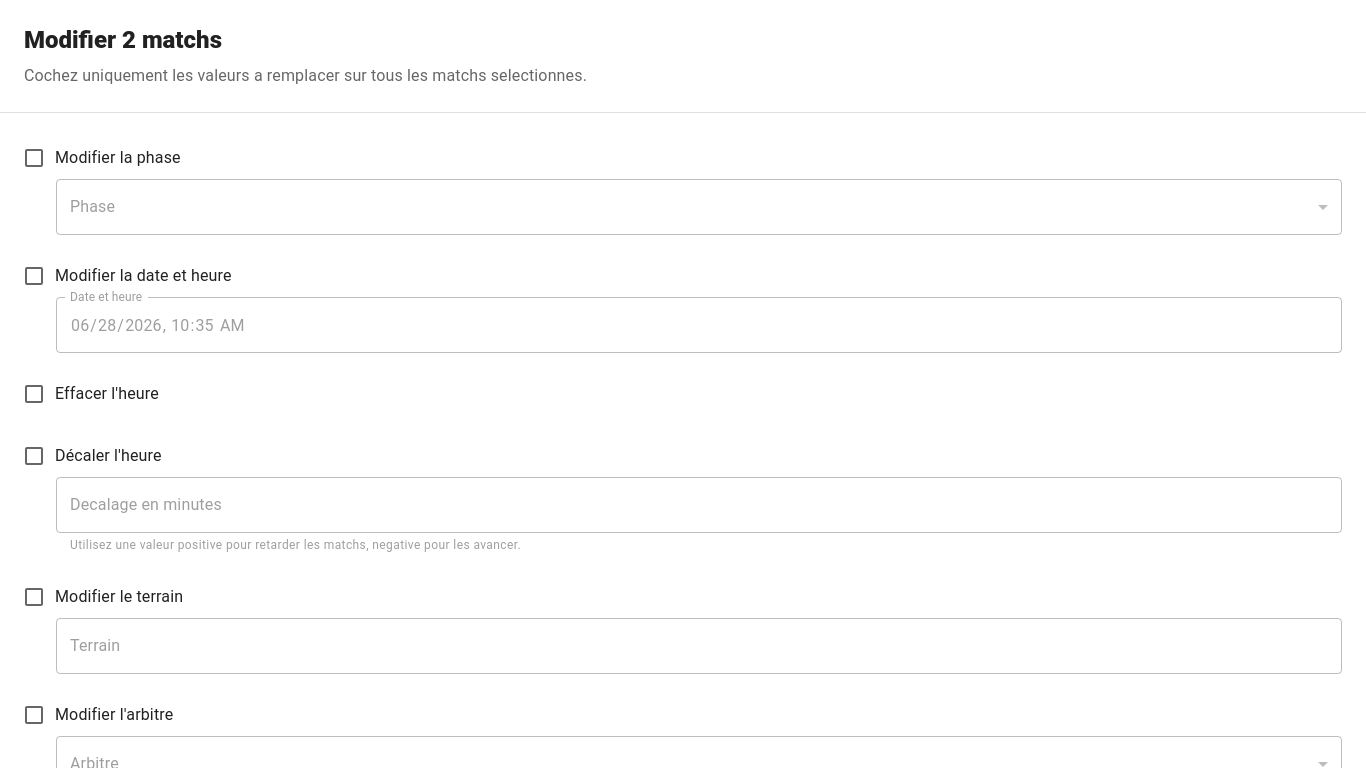
it: BulkUpdateGamesForm › should display phase choices in hierarchy order
Click the checkbox labelled "Modifier la phase": (101, 158) x1=22 y1=146 x2=181 y2=170
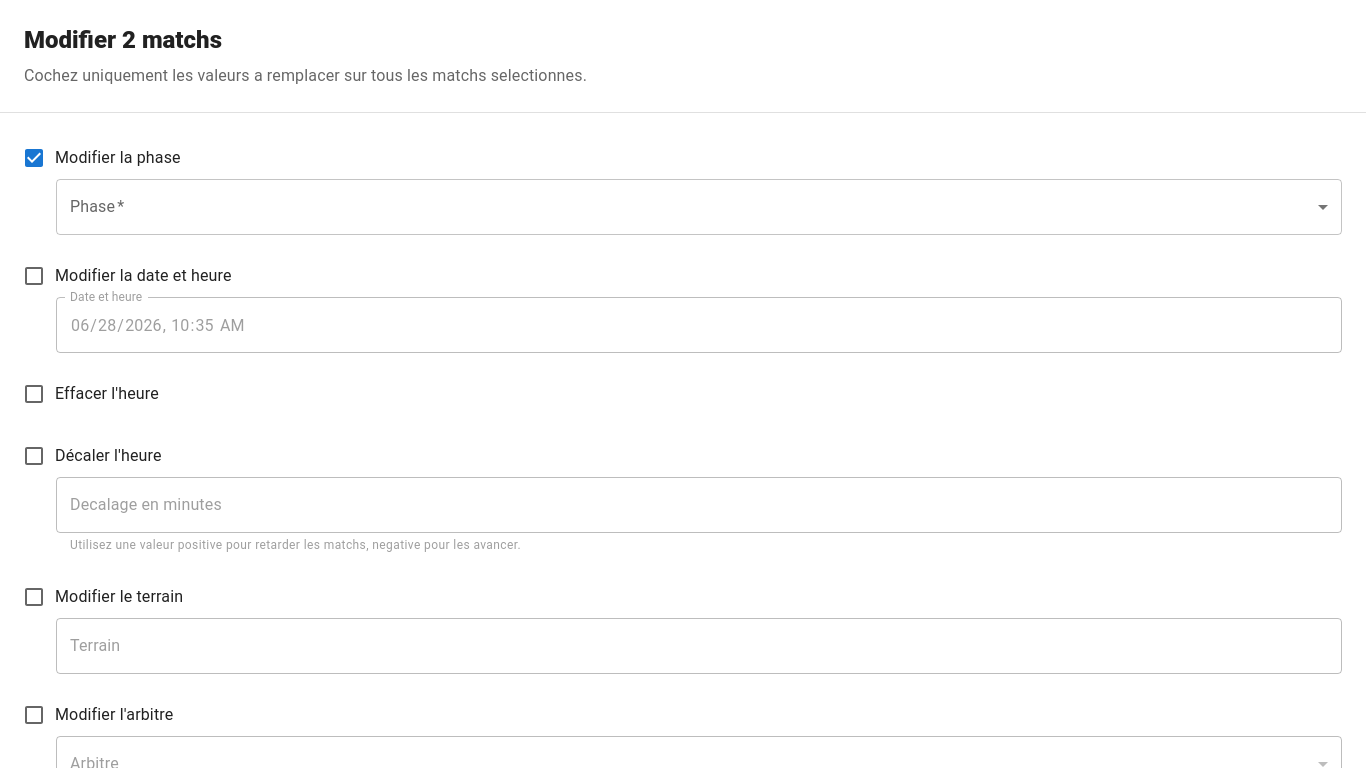
Press the mouse on the dropdown named "Phase" below "Modifier la phase": (699, 207) x1=56 y1=179 x2=1342 y2=235
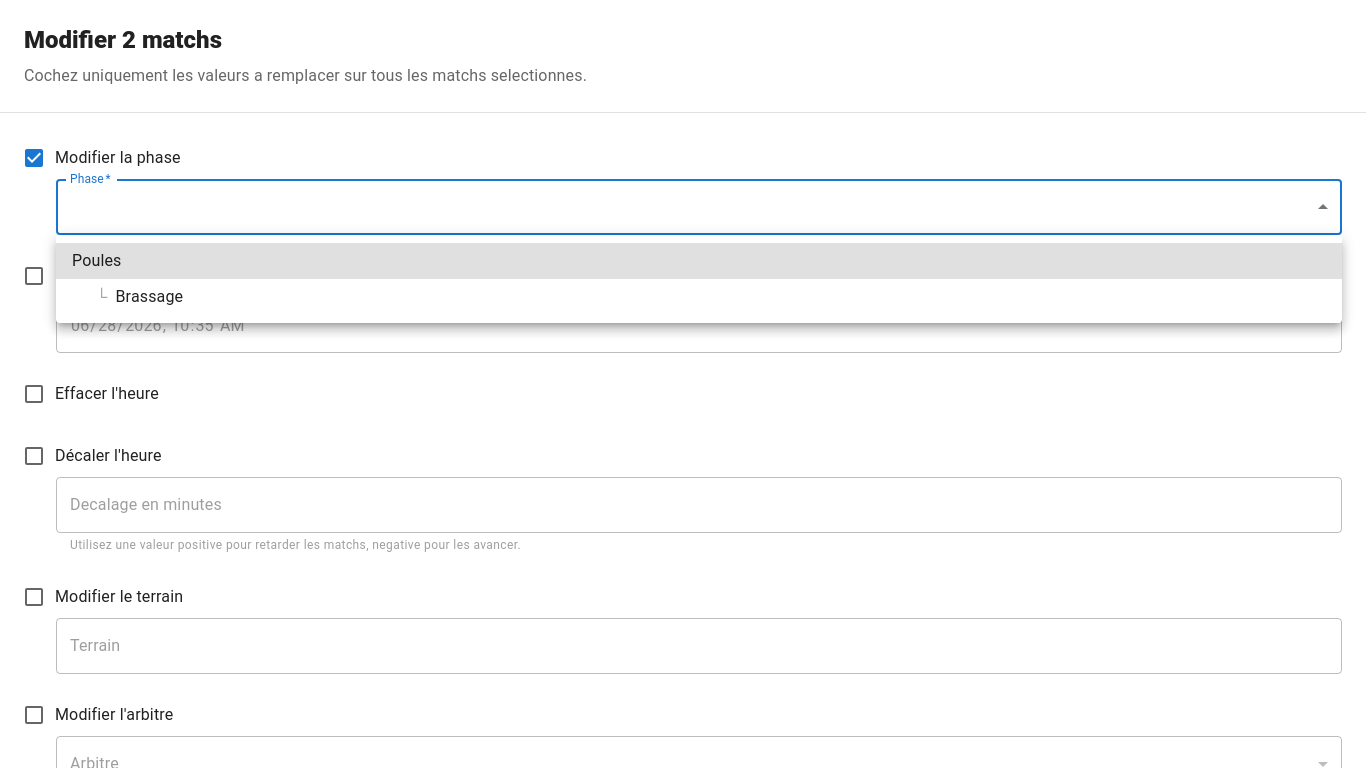
Now the options read "Poules", "└Brassage", in this order, box x1=56 y1=243 x2=1342 y2=279; x1=96 y1=287 x2=183 y2=306
Now the option "└ Brassage" is shown, box x1=96 y1=287 x2=183 y2=306
